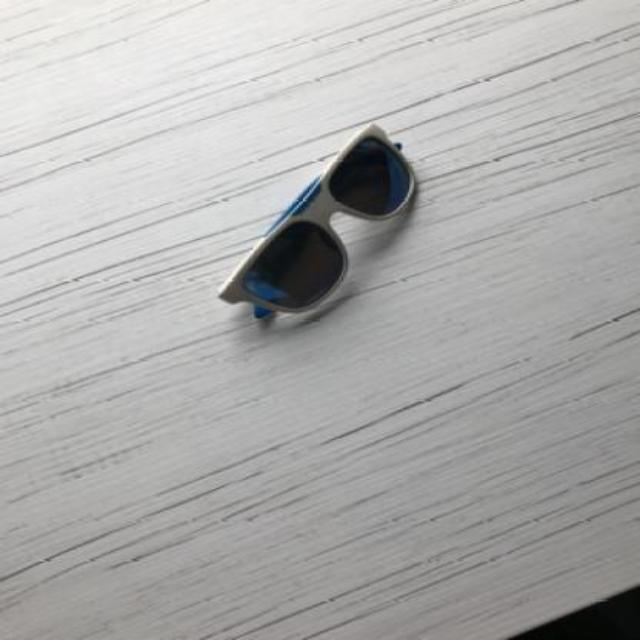sunglasses: (214, 120, 416, 324)
